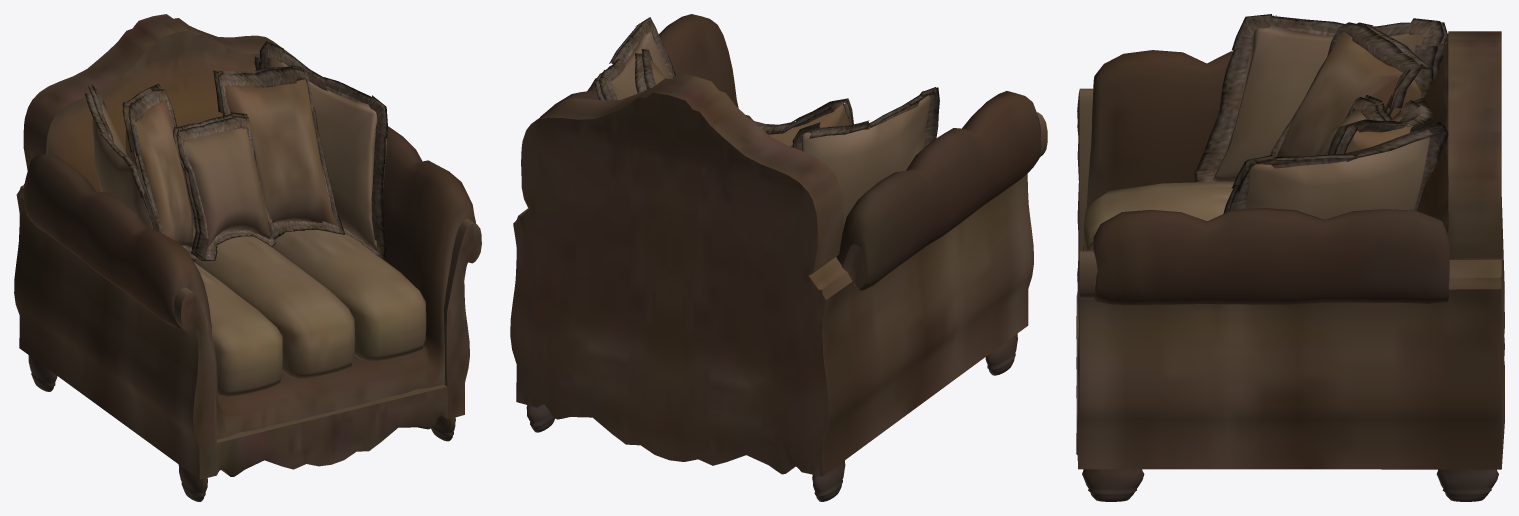
File: ph-sofa-03.glb
The picture shows the model from 3 angles, left to right: view 1: azimuth 30°, elevation 25°; view 2: azimuth 150°, elevation 25°; view 3: azimuth 270°, elevation 25°; orthographic projection. The views are drawn at different scales.
Parts seen in each view (by area): view 1: sofa_03; view 2: sofa_03; view 3: sofa_03.
Boxes of the visible parts, bbox=[...] form: sofa_03: bbox=[14, 14, 481, 501]; sofa_03: bbox=[510, 14, 1047, 501]; sofa_03: bbox=[1076, 14, 1504, 501].
Size of the model in its own units: 1 by 1 by 1.
Materials: 2 (2 with a texture image).
